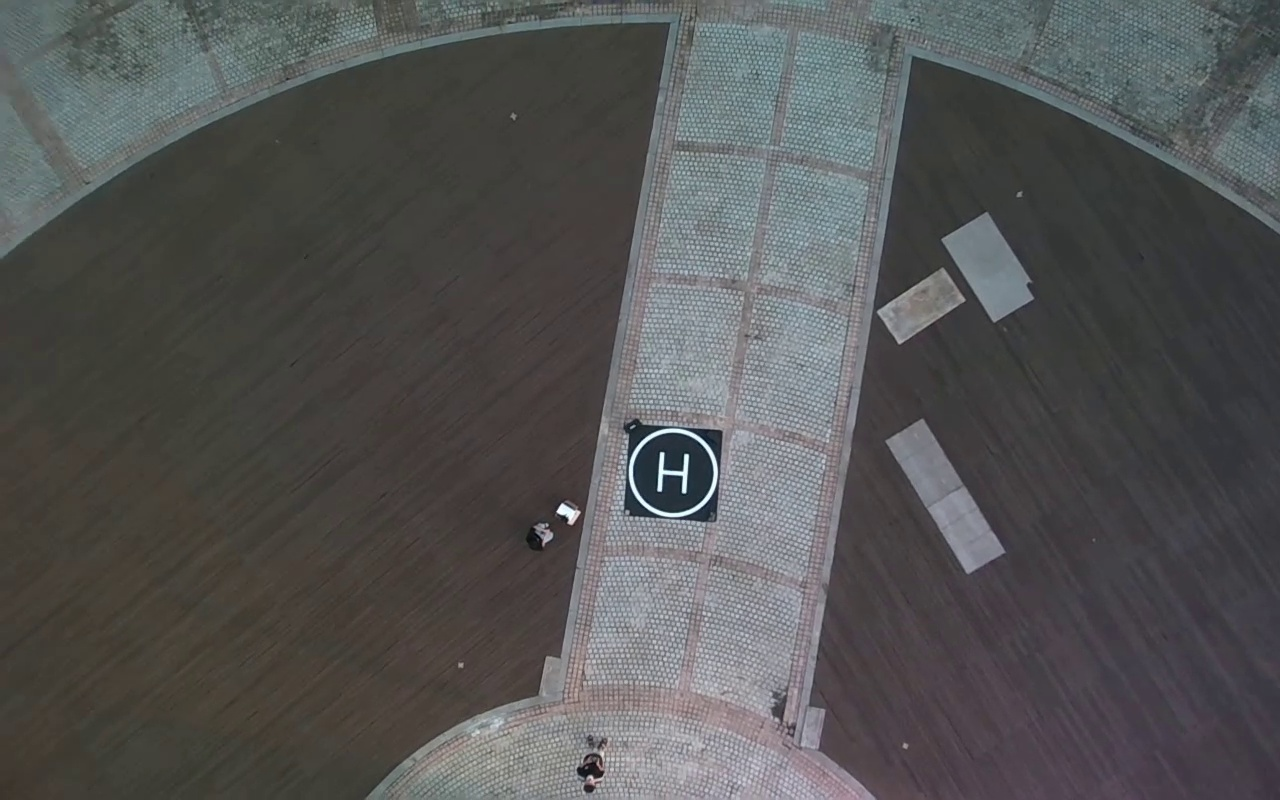H: (656, 453, 688, 492)
heliport: (628, 427, 718, 518)
